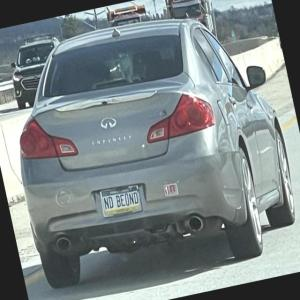Plate: (99, 184, 143, 218)
